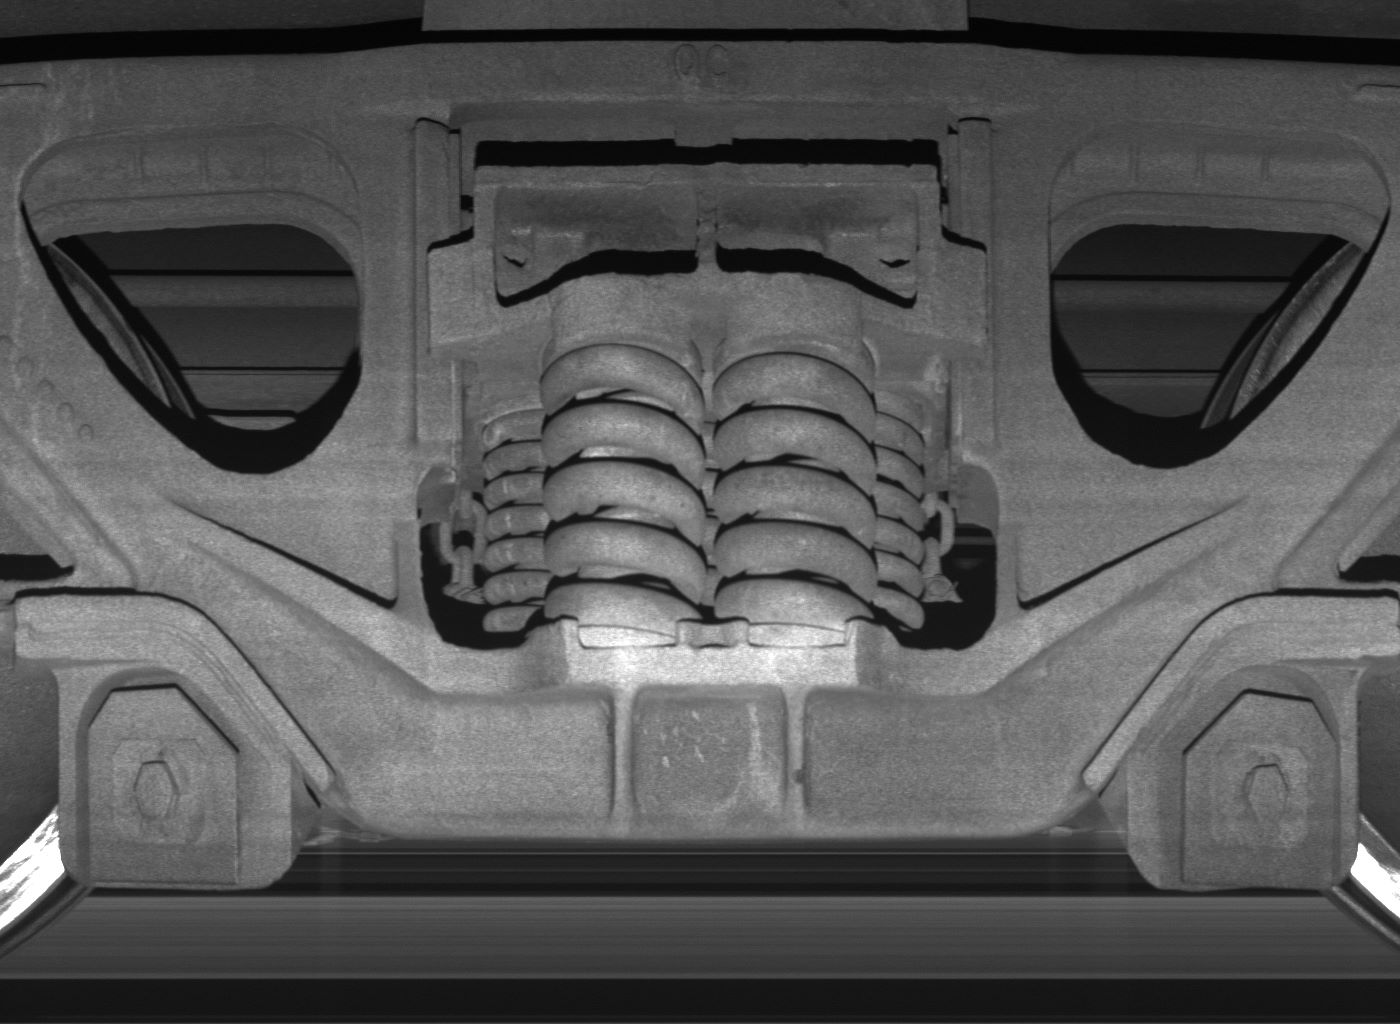normal: (60, 661, 291, 891), (1129, 664, 1357, 894)
